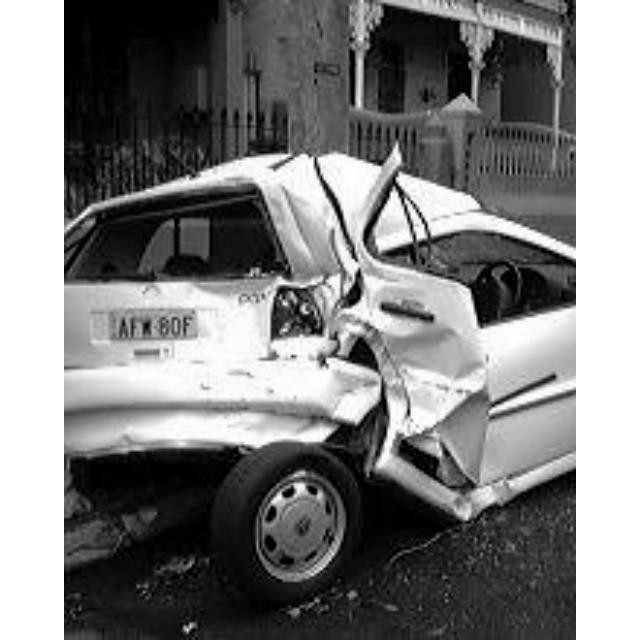Rear-windscreen-Damage: (70, 187, 308, 300)
doorouter-dent: (346, 224, 500, 488)
